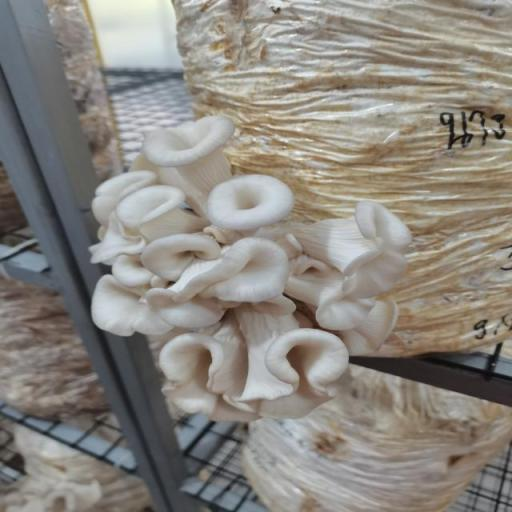White Oyster Mushroom: (83, 105, 423, 439)
